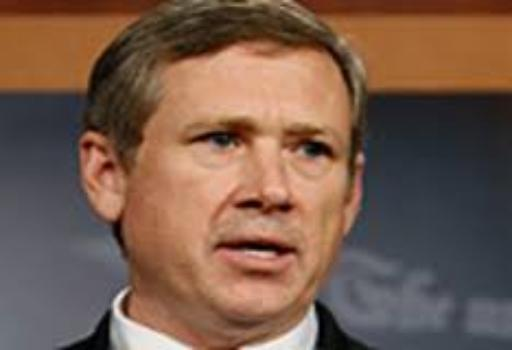left_eye: (288, 142, 338, 163)
left_lip_corner: (288, 244, 306, 263)
right_eye: (189, 134, 248, 153)
right_lip_corner: (209, 237, 230, 259)
